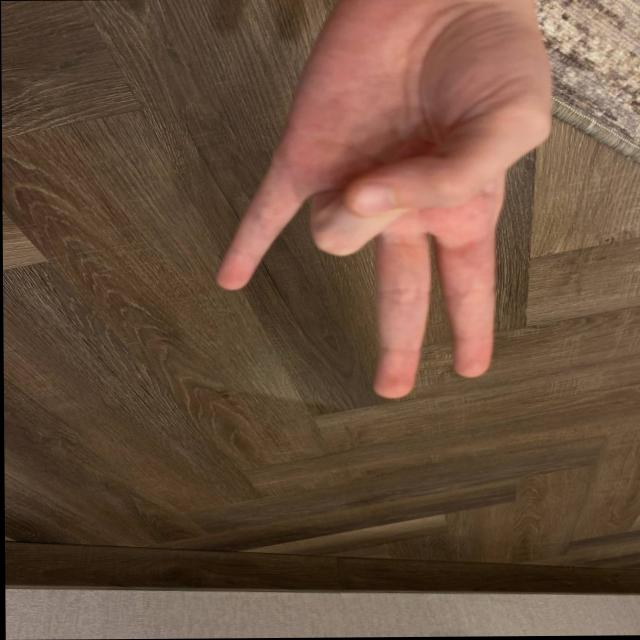n: (221, 30, 549, 420)
